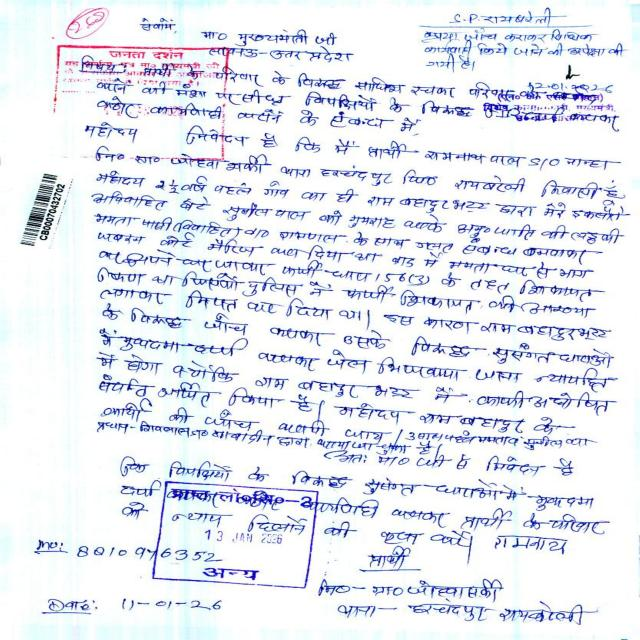antritgovtstamp: (153, 476, 315, 590)
barcode: (17, 167, 71, 248)
jantadarsan: (51, 42, 232, 161)
signnamestamp: (486, 61, 635, 138)
